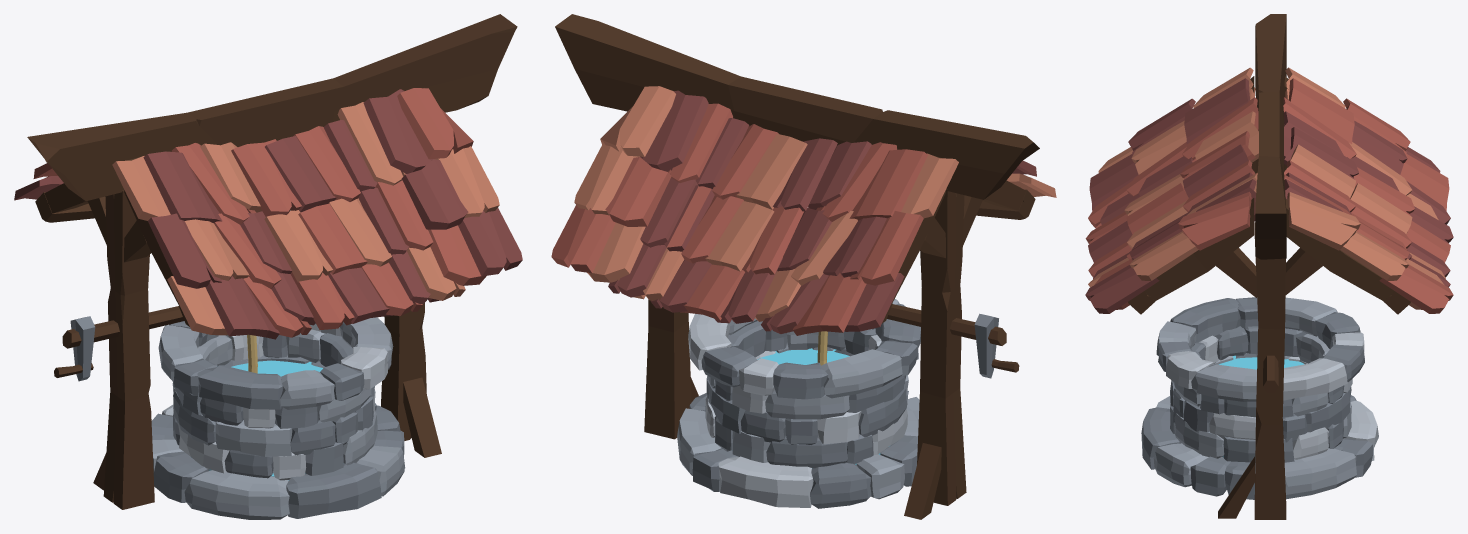
The model's file is StylizedWell.fbx.
3 renders of one model, left to right at view 1: azimuth 30°, elevation 25°; view 2: azimuth 150°, elevation 25°; view 3: azimuth 270°, elevation 25°, orthographic. The views are drawn at different scales.
Visible parts, largest first — view 1: Cube.015; view 2: Cube.015; view 3: Cube.015.
Boxes of the visible parts, x1=… form: Cube.015: x1=14, y1=14, x2=522, y2=519; Cube.015: x1=551, y1=14, x2=1056, y2=519; Cube.015: x1=1085, y1=14, x2=1453, y2=519.
Size of the model in its own units: 470 by 368 by 354.
